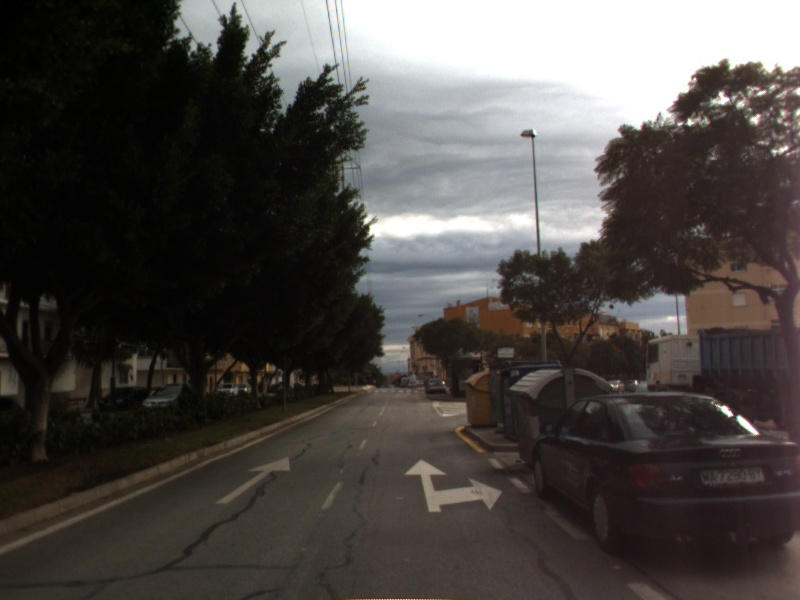STRAIGHT: (213, 454, 292, 506)
STRAIGHT_RIGHT: (402, 456, 505, 514)
